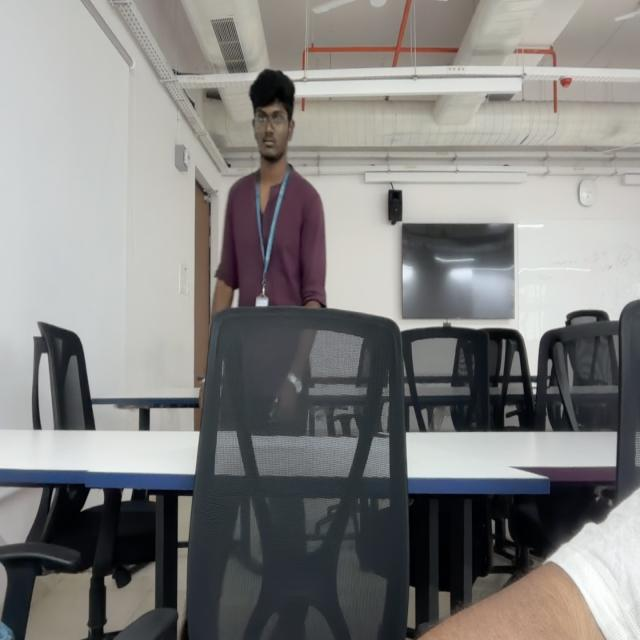ravindra: (250, 70, 296, 164)
